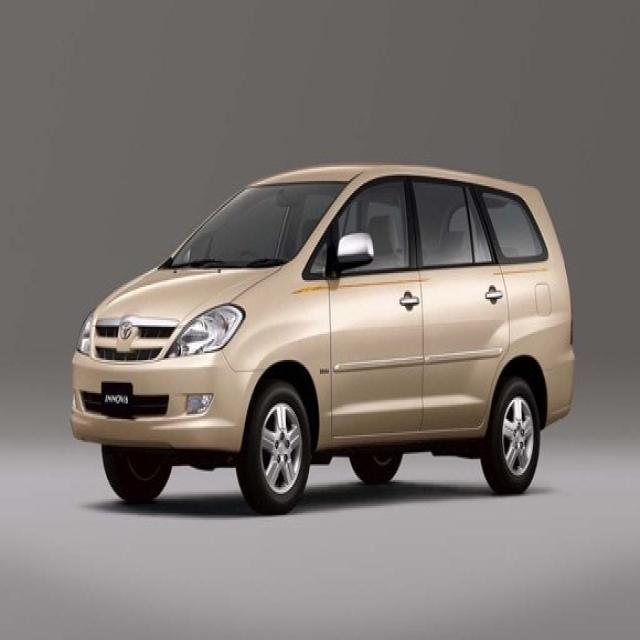light_vehicle: (70, 163, 577, 514)
